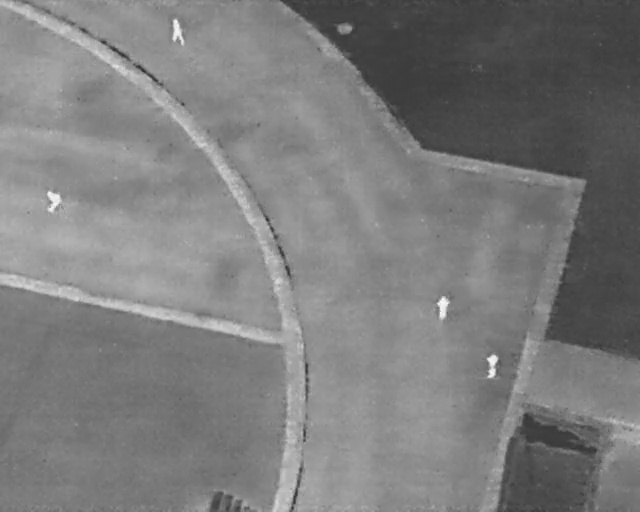Person: (45, 189, 62, 212), (436, 296, 451, 322), (171, 17, 185, 43), (487, 351, 500, 379)
